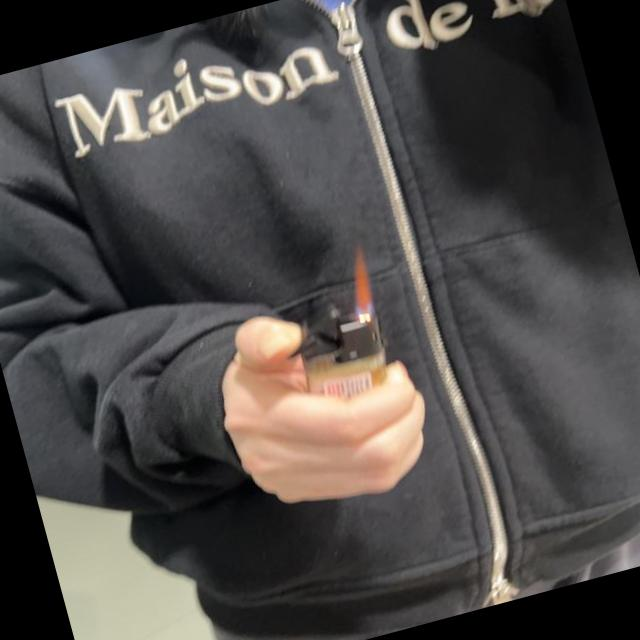Fire: (340, 246, 380, 324)
